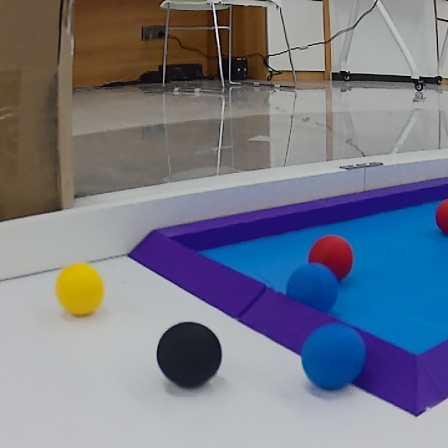black: (151, 315, 225, 392)
blue: (299, 320, 368, 395), (286, 261, 339, 317)
blue_aim: (125, 168, 448, 422)
red: (306, 236, 357, 282)
yellow: (52, 258, 107, 324)
